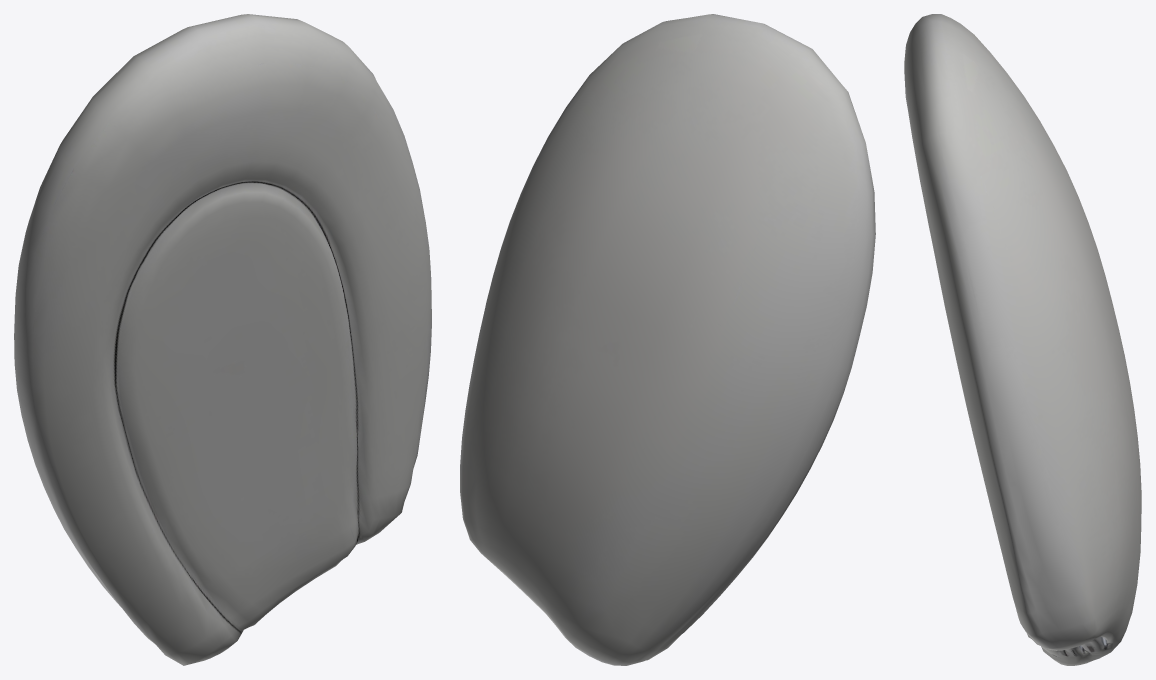
Rendered from chr_player_capsule01_bunny01_ear_top3d_v002.glb.
The picture shows the model from 3 angles, left to right: view 1: azimuth 30°, elevation 25°; view 2: azimuth 150°, elevation 25°; view 3: azimuth 270°, elevation 25°; orthographic projection. The views are drawn at different scales.
Parts seen in each view (by area): view 1: BunnyEarReusableV002; view 2: BunnyEarReusableV002; view 3: BunnyEarReusableV002.
Boxes of the visible parts, x1,y1,x2,y2 form: BunnyEarReusableV002: [14, 14, 431, 665]; BunnyEarReusableV002: [460, 14, 875, 665]; BunnyEarReusableV002: [904, 14, 1141, 665].
Size of the model in its own units: 0.8386 by 1.32 by 0.4699.
Materials: 1 (1 with a texture image).
